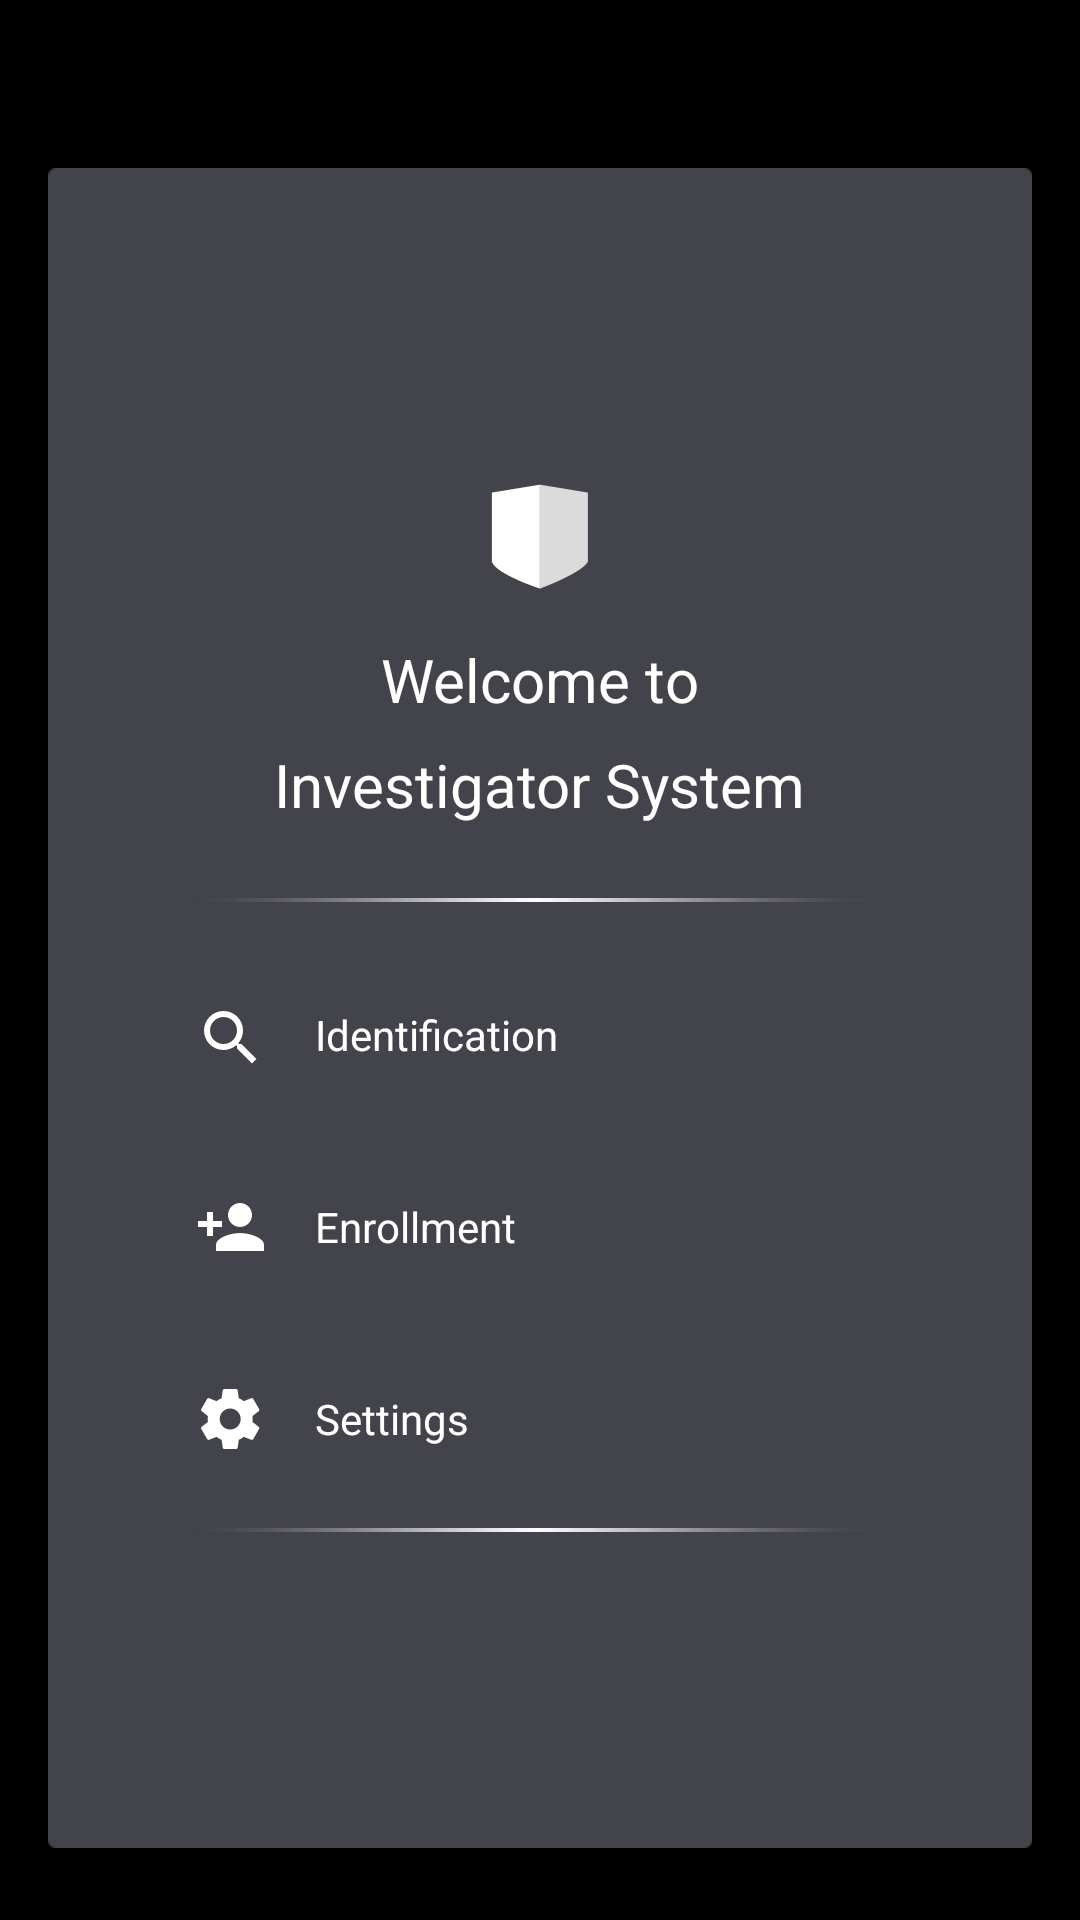

Where to tap for icons on this 1080x1920 app screen, as [x,y]:
person add: [231,1227]
search: [230,1037]
